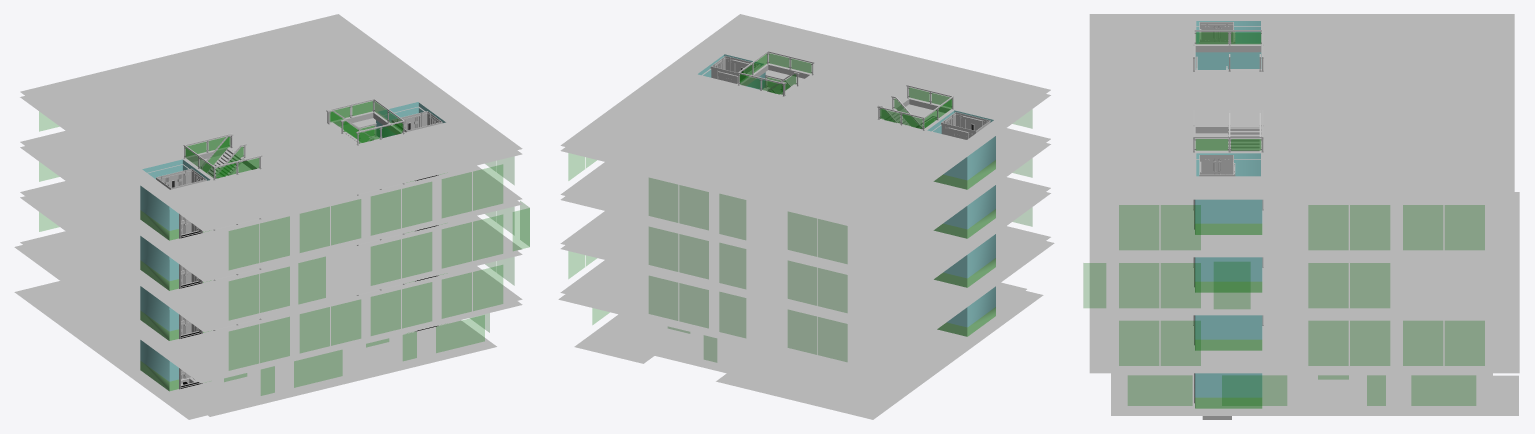
Rendered from Building11_V1_Interior1.fbx.
The picture shows the model from 3 angles, left to right: view 1: azimuth 30°, elevation 25°; view 2: azimuth 150°, elevation 25°; view 3: azimuth 270°, elevation 25°; orthographic projection. The views are drawn at different scales.
Visible parts, largest first — view 1: SM_Building11_V1_Interior1; view 2: SM_Building11_V1_Interior1; view 3: SM_Building11_V1_Interior1.
Boxes of the visible parts, x1=… form: SM_Building11_V1_Interior1: x1=14, y1=14, x2=529, y2=419; SM_Building11_V1_Interior1: x1=558, y1=14, x2=1054, y2=419; SM_Building11_V1_Interior1: x1=1083, y1=14, x2=1519, y2=419.
Bounding box in the file's own units: 2761 × 1833 × 2773.
